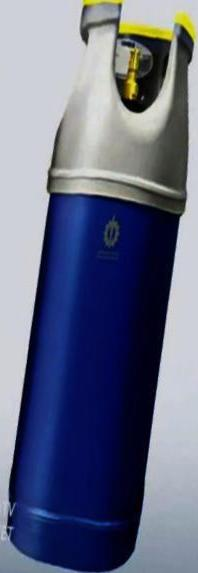cylinder: (1, 0, 198, 573)
